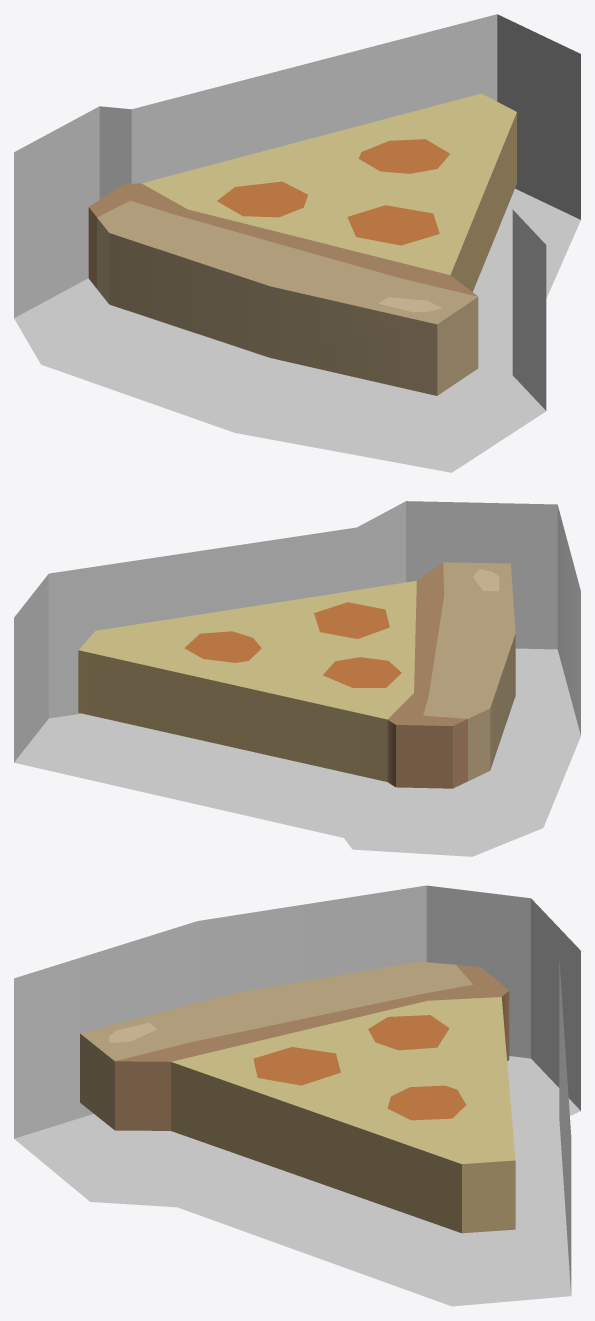
File: PixarPizzaPlanetPizzaSlice.glb
The picture shows the model from 3 angles, top to bottom: view 1: azimuth 30°, elevation 25°; view 2: azimuth 150°, elevation 25°; view 3: azimuth 270°, elevation 25°; orthographic projection. The views are drawn at different scales.
Parts seen in each view (by area): view 1: PixarPizzaPlanetPizzaSlice; view 2: PixarPizzaPlanetPizzaSlice; view 3: PixarPizzaPlanetPizzaSlice.
Part boxes in pixels (x1,y1,x2,y2): PixarPizzaPlanetPizzaSlice: (14, 14, 580, 472); PixarPizzaPlanetPizzaSlice: (14, 501, 580, 856); PixarPizzaPlanetPizzaSlice: (14, 885, 580, 1306).
Bounding box in the file's own units: 0.2978 × 0.0854 × 0.2737.
